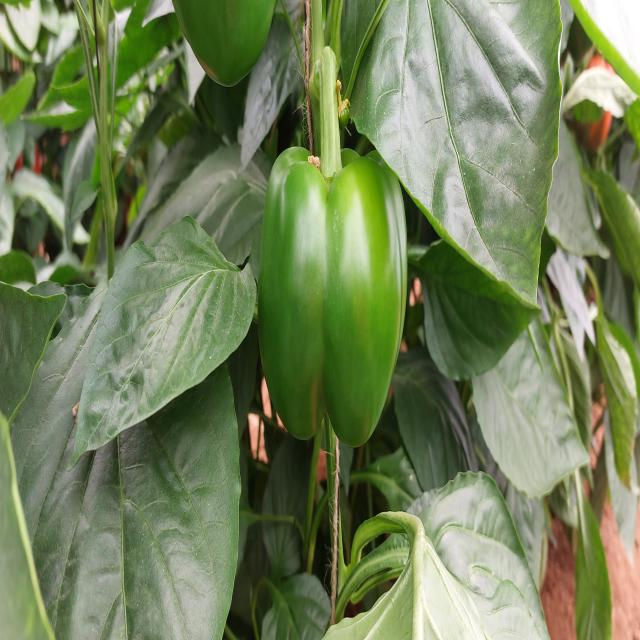Green--Not-ready-to-harvest: (257, 149, 409, 461), (171, 0, 274, 89)
